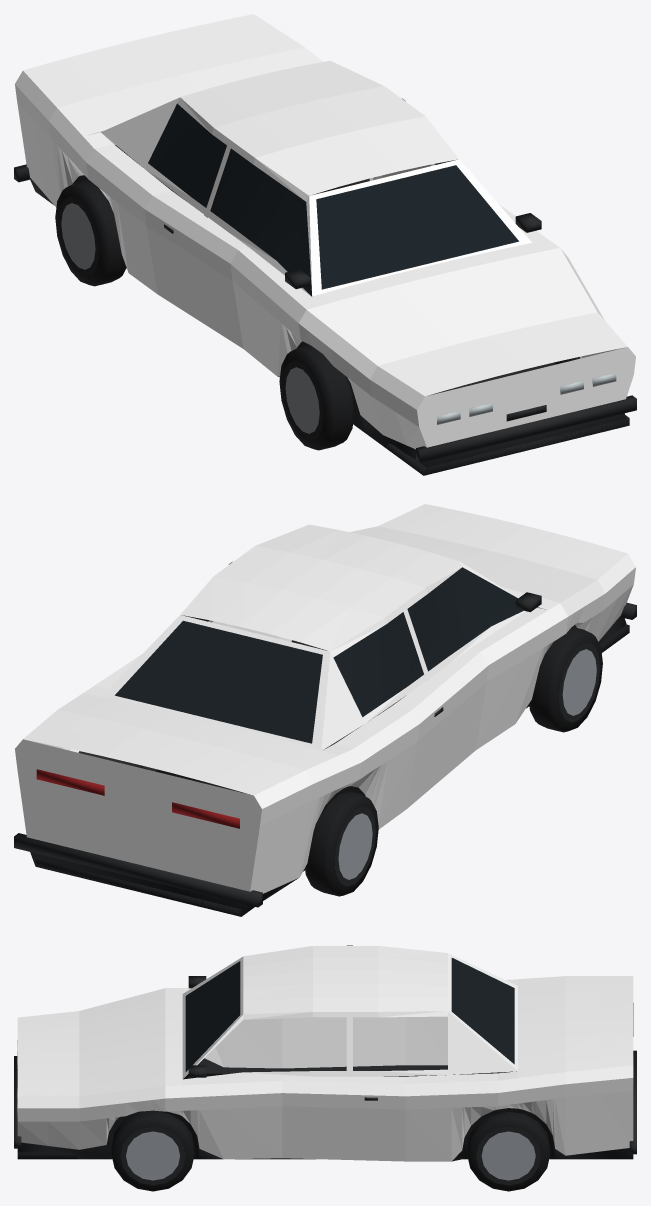
File: hayase_retorno.glb
3 renders of one model, top to bottom at view 1: azimuth 30°, elevation 25°; view 2: azimuth 150°, elevation 25°; view 3: azimuth 270°, elevation 25°, orthographic. The views are drawn at different scales.
Parts seen in each view (by area): view 1: Body_Paint, Body_Details, Mount_FrontLeft_Wheel_Details, Mount_RearLeft_Wheel_Details; view 2: Body_Paint, Body_Details, Mount_RearLeft_Wheel_Details, Mount_FrontLeft_Wheel_Details; view 3: Body_Paint, Body_Details, Mount_FrontRight_Wheel_Details, Mount_RearRight_Wheel_Details.
Boxes of the visible parts, <box> form: Body_Paint: <box>15,14,635,449</box>; Body_Details: <box>14,103,636,475</box>; Mount_FrontLeft_Wheel_Details: <box>279,345,354,450</box>; Mount_RearLeft_Wheel_Details: <box>55,180,126,286</box>; Body_Paint: <box>15,504,635,893</box>; Body_Details: <box>14,567,636,916</box>; Mount_RearLeft_Wheel_Details: <box>305,791,378,896</box>; Mount_FrontLeft_Wheel_Details: <box>529,627,602,732</box>; Body_Paint: <box>17,945,633,1161</box>; Body_Details: <box>14,958,636,1161</box>; Mount_FrontRight_Wheel_Details: <box>111,1110,194,1191</box>; Mount_RearRight_Wheel_Details: <box>467,1111,550,1191</box>.
Size of the model in its own units: 1.88 by 1.34 by 4.62.
Materials: 2 (1 with a texture image).
